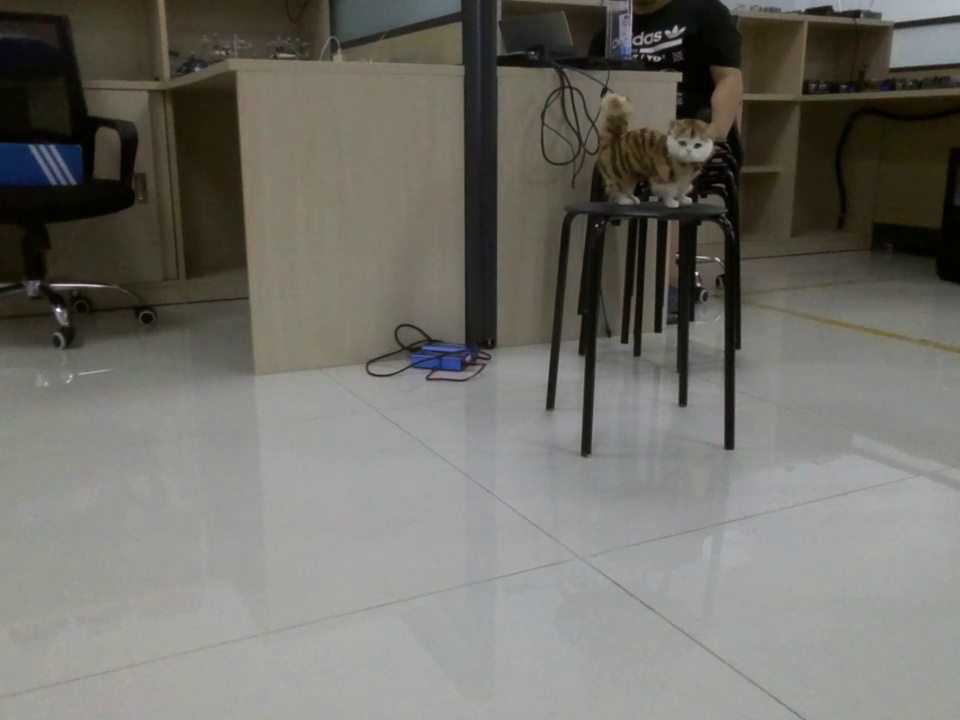cat: (592, 90, 725, 210)
